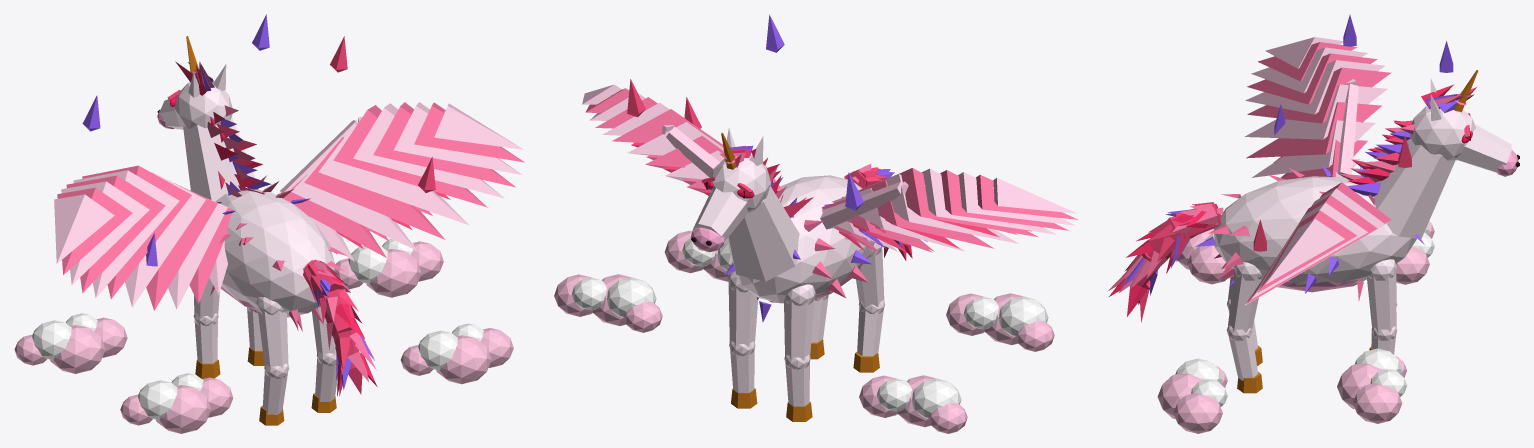
Rendered from pegasus.obj.
The picture shows the model from 3 angles, left to right: view 1: azimuth 30°, elevation 25°; view 2: azimuth 150°, elevation 25°; view 3: azimuth 270°, elevation 25°; orthographic projection. The views are drawn at different scales.
Visible parts, largest first — view 1: WingR_5_m24, WingL_4_m20, WingR_5_m25, Body_1_m1, WingL_4_m21, Float1_17_m52, Float4_20_m58, Float3_19_m56, Float2_18_m54, Neck_2_m5, Head_3_m10, Leg3Up_13_m46 (+19 smaller); view 2: WingL_4_m20, Body_1_m1, WingL_4_m21, Neck_2_m5, WingR_5_m24, Head_3_m10, WingR_5_m25, Float3_19_m56, Float1_17_m52, Float2_18_m54, Float3_19_m57, Float1_17_m53 (+13 smaller); view 3: Body_1_m1, WingL_4_m20, WingL_4_m21, Neck_2_m5, Head_3_m10, WingR_5_m24, WingR_5_m25, Float2_18_m54, Float4_20_m58, Leg2Up_11_m43, Leg4Up_15_m49, Float3_19_m56 (+18 smaller).
Boxes of the visible parts, left/top/right/bottom form: WingR_5_m24: left=280, top=102, right=523, bottom=261; WingL_4_m20: left=54, top=170, right=227, bottom=309; WingR_5_m25: left=282, top=102, right=524, bottom=257; Body_1_m1: left=215, top=188, right=335, bottom=317; WingL_4_m21: left=57, top=165, right=233, bottom=310; Float1_17_m52: left=14, top=317, right=127, bottom=373; Float4_20_m58: left=400, top=328, right=513, bottom=384; Float3_19_m56: left=120, top=377, right=233, bottom=433; Float2_18_m54: left=335, top=241, right=443, bottom=297; Neck_2_m5: left=183, top=117, right=259, bottom=201; Head_3_m10: left=159, top=64, right=232, bottom=129; Leg3Up_13_m46: left=256, top=297, right=288, bottom=369; WingL_4_m20: left=820, top=168, right=1076, bottom=251; Body_1_m1: left=732, top=175, right=874, bottom=303; WingL_4_m21: left=822, top=168, right=1078, bottom=253; Neck_2_m5: left=727, top=186, right=799, bottom=281; WingR_5_m24: left=582, top=84, right=724, bottom=180; Head_3_m10: left=693, top=128, right=770, bottom=241; WingR_5_m25: left=585, top=88, right=724, bottom=192; Float3_19_m56: left=946, top=293, right=1054, bottom=351; Float1_17_m52: left=859, top=375, right=967, bottom=433; Float2_18_m54: left=554, top=274, right=662, bottom=332; Float3_19_m57: left=963, top=296, right=1048, bottom=336; Float1_17_m53: left=876, top=378, right=961, bottom=418; Body_1_m1: left=1213, top=176, right=1416, bottom=288; WingL_4_m20: left=1244, top=37, right=1387, bottom=177; WingL_4_m21: left=1246, top=42, right=1391, bottom=179; Neck_2_m5: left=1373, top=138, right=1455, bottom=238; Head_3_m10: left=1410, top=78, right=1511, bottom=172; WingR_5_m24: left=1244, top=188, right=1387, bottom=305; WingR_5_m25: left=1247, top=182, right=1391, bottom=303; Float2_18_m54: left=1337, top=356, right=1406, bottom=423; Float4_20_m58: left=1157, top=366, right=1227, bottom=433; Leg2Up_11_m43: left=1367, top=259, right=1396, bottom=332; Leg4Up_15_m49: left=1228, top=262, right=1261, bottom=332; Float3_19_m56: left=1177, top=228, right=1228, bottom=284.
Bounding box in the file's own units: 8.04 × 5.92 × 5.99.
